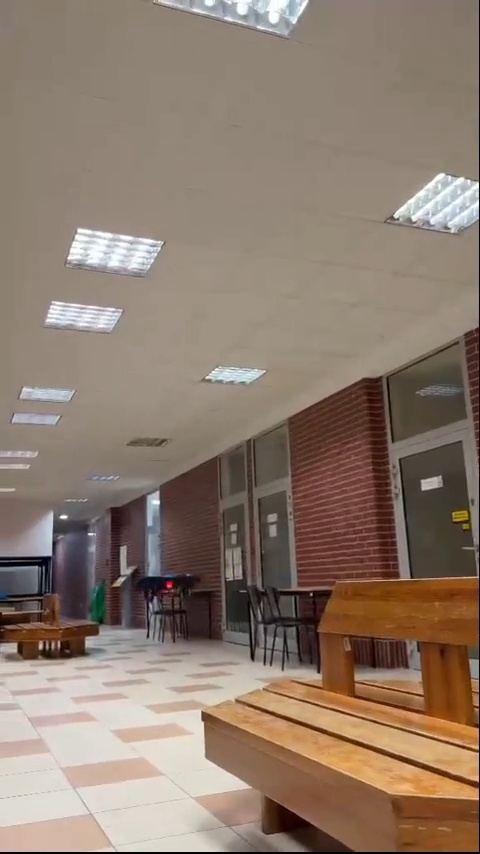drone: (134, 573, 199, 598)
